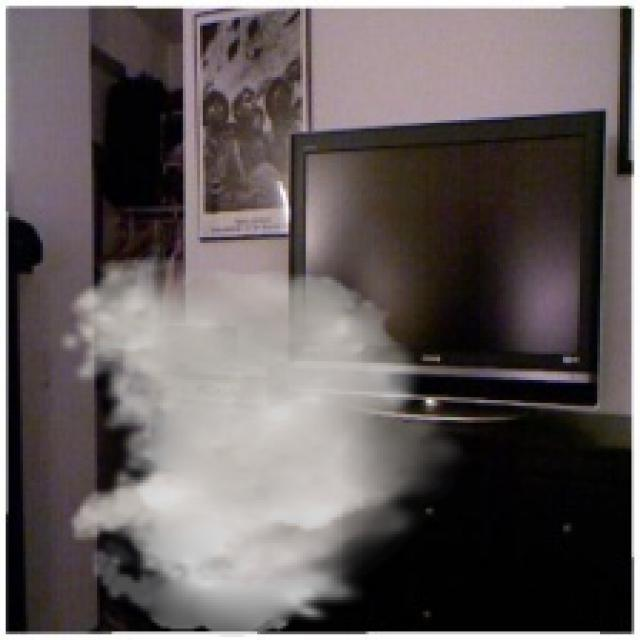smoke: (57, 254, 472, 637)
